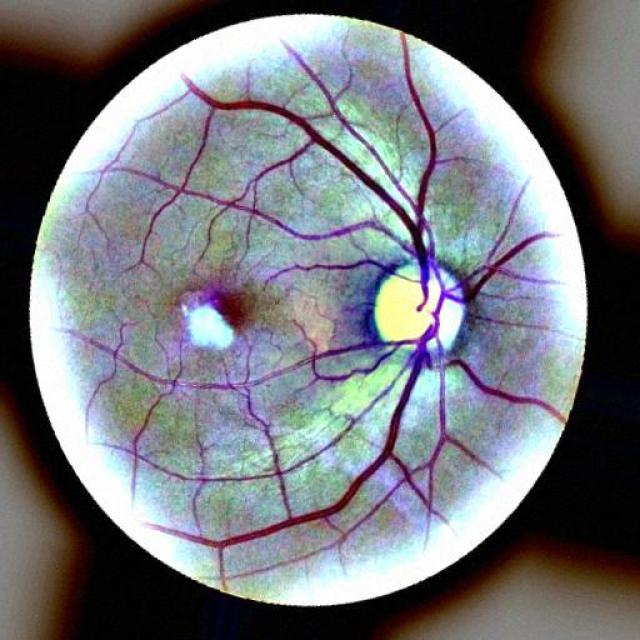Macula: (203, 274, 261, 345)
Nerves: (151, 32, 566, 549)
Optic Disk: (374, 260, 464, 350)
